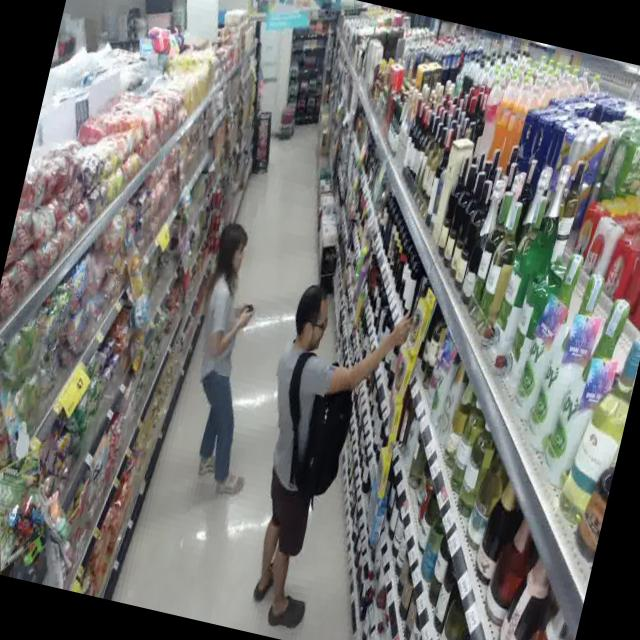pickup: (206, 243, 429, 640)
